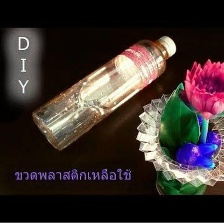bottle: (28, 29, 179, 157)
